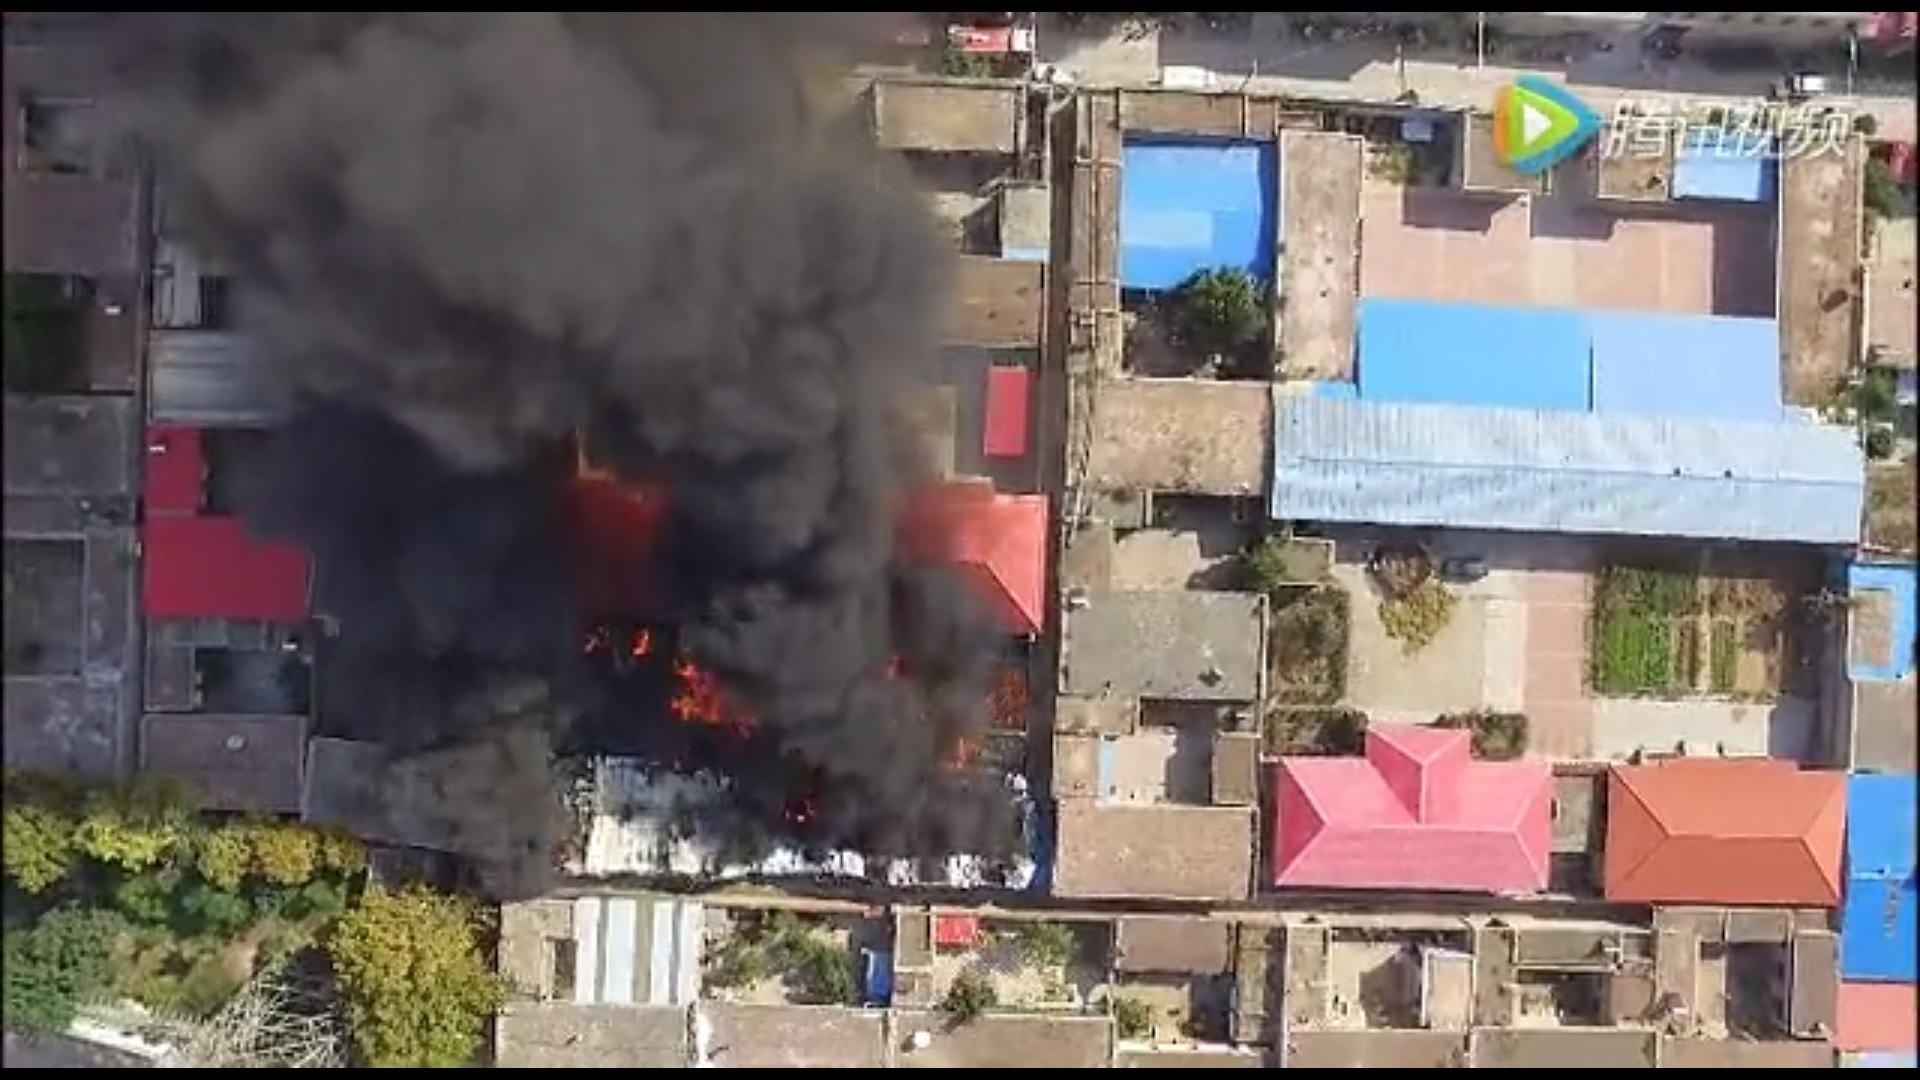fire: (645, 637, 746, 732)
